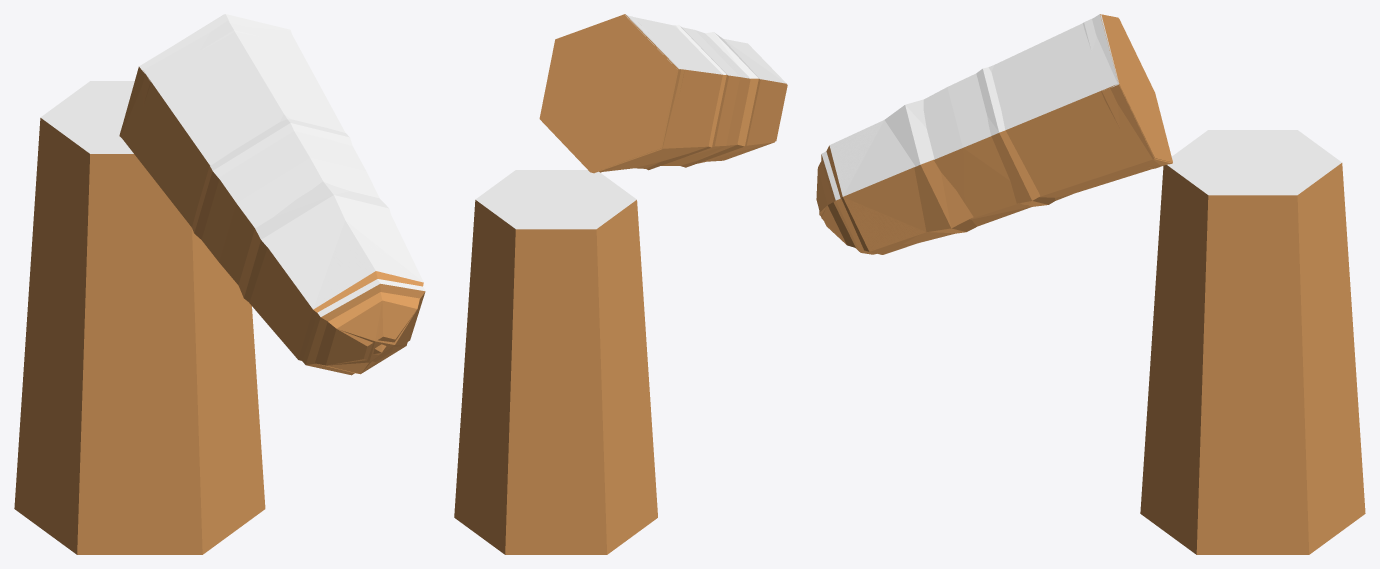
The model's file is Felled_Dry-Palm_2_Snowy.fbx.
The picture shows the model from 3 angles, left to right: view 1: azimuth 30°, elevation 25°; view 2: azimuth 150°, elevation 25°; view 3: azimuth 270°, elevation 25°; orthographic projection. The views are drawn at different scales.
Visible parts, largest first — view 1: Felled Dry-Palm 2_LOD0_Snowy, Felled Dry-Palm 2_LOD1_Snowy, Felled Dry-Palm 2_LOD2_Snowy; view 2: Felled Dry-Palm 2_LOD0_Snowy, Felled Dry-Palm 2_LOD1_Snowy, Felled Dry-Palm 2_LOD2_Snowy; view 3: Felled Dry-Palm 2_LOD0_Snowy, Felled Dry-Palm 2_LOD1_Snowy, Felled Dry-Palm 2_LOD2_Snowy.
Part boxes in pixels (bbox=[...]): Felled Dry-Palm 2_LOD0_Snowy: bbox=[14, 14, 423, 554]; Felled Dry-Palm 2_LOD1_Snowy: bbox=[14, 14, 423, 554]; Felled Dry-Palm 2_LOD2_Snowy: bbox=[120, 26, 425, 375]; Felled Dry-Palm 2_LOD0_Snowy: bbox=[454, 15, 785, 554]; Felled Dry-Palm 2_LOD1_Snowy: bbox=[454, 14, 786, 554]; Felled Dry-Palm 2_LOD2_Snowy: bbox=[603, 17, 787, 171]; Felled Dry-Palm 2_LOD0_Snowy: bbox=[816, 14, 1365, 554]; Felled Dry-Palm 2_LOD1_Snowy: bbox=[818, 14, 1364, 554]; Felled Dry-Palm 2_LOD2_Snowy: bbox=[819, 23, 1159, 254].
Bounding box in the file's own units: 66.53 × 188 × 187.
